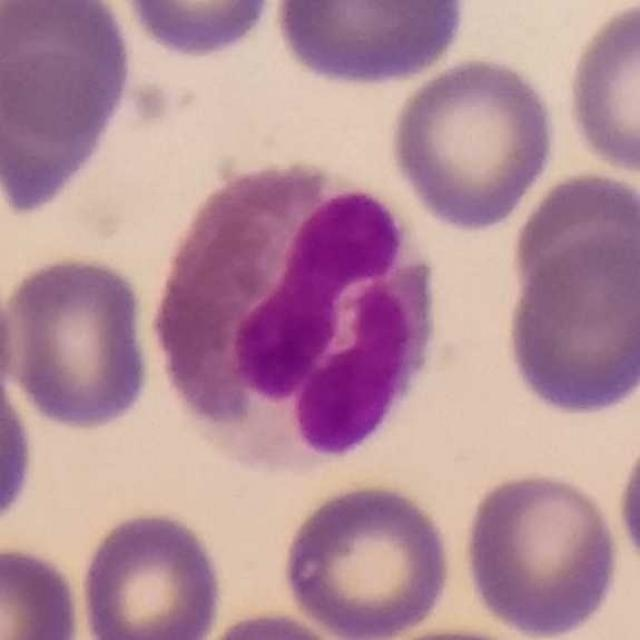Eosinophil: (153, 158, 440, 466)
RBC: (386, 54, 561, 232), (275, 478, 456, 640), (4, 247, 160, 430), (460, 464, 623, 635), (501, 232, 640, 420), (0, 46, 129, 222), (76, 504, 228, 640), (505, 166, 640, 319), (0, 0, 136, 139), (269, 0, 473, 90), (561, 0, 640, 179), (111, 0, 282, 62), (0, 538, 85, 640), (0, 336, 39, 538), (184, 606, 355, 640), (613, 421, 640, 580)
